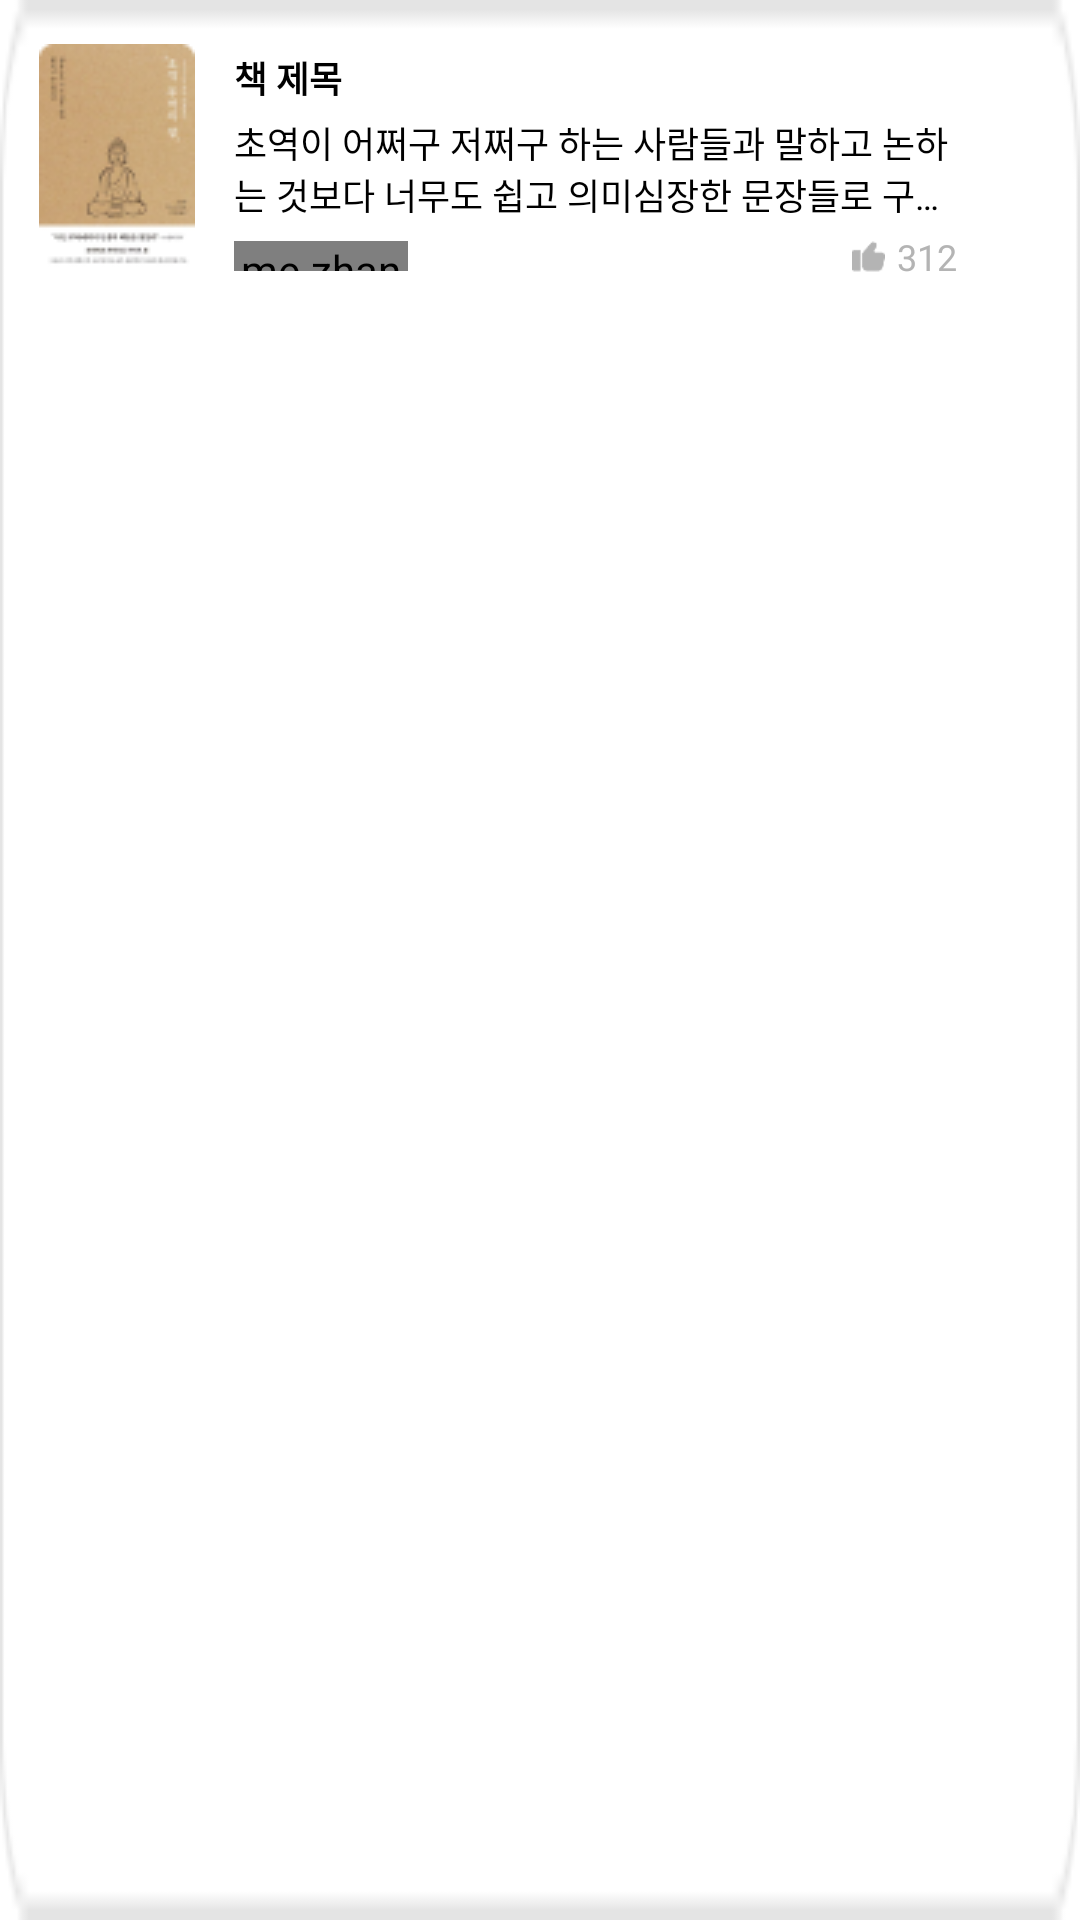

Where icons sit on this 1080x1920 app screen, as [x1, y1, x2, y2]:
recommend: [852, 242, 885, 272]
책 표지: [39, 44, 195, 263]
